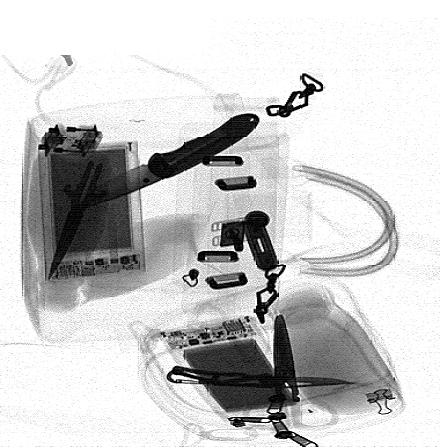Knife: (82, 114, 259, 211), (166, 367, 361, 390)
Powerbank: (161, 316, 303, 419), (41, 140, 145, 280)
Scissors: (46, 139, 146, 282), (240, 314, 340, 431)
